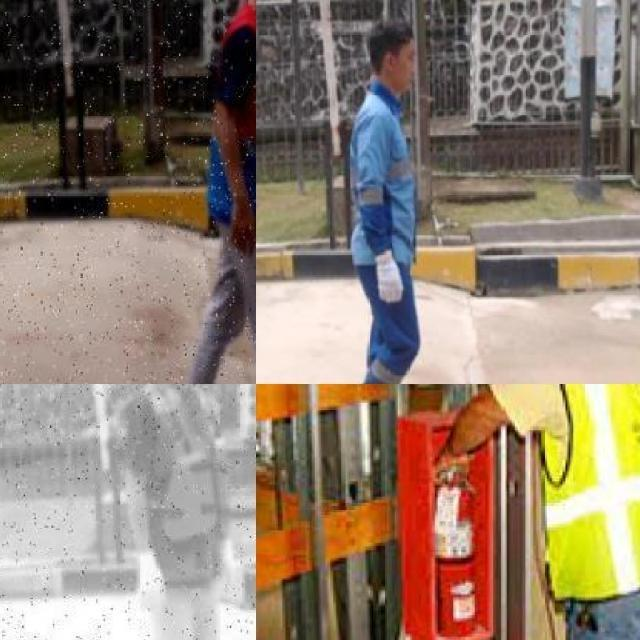apron: (372, 237, 406, 311), (134, 550, 168, 615), (218, 537, 238, 600)
